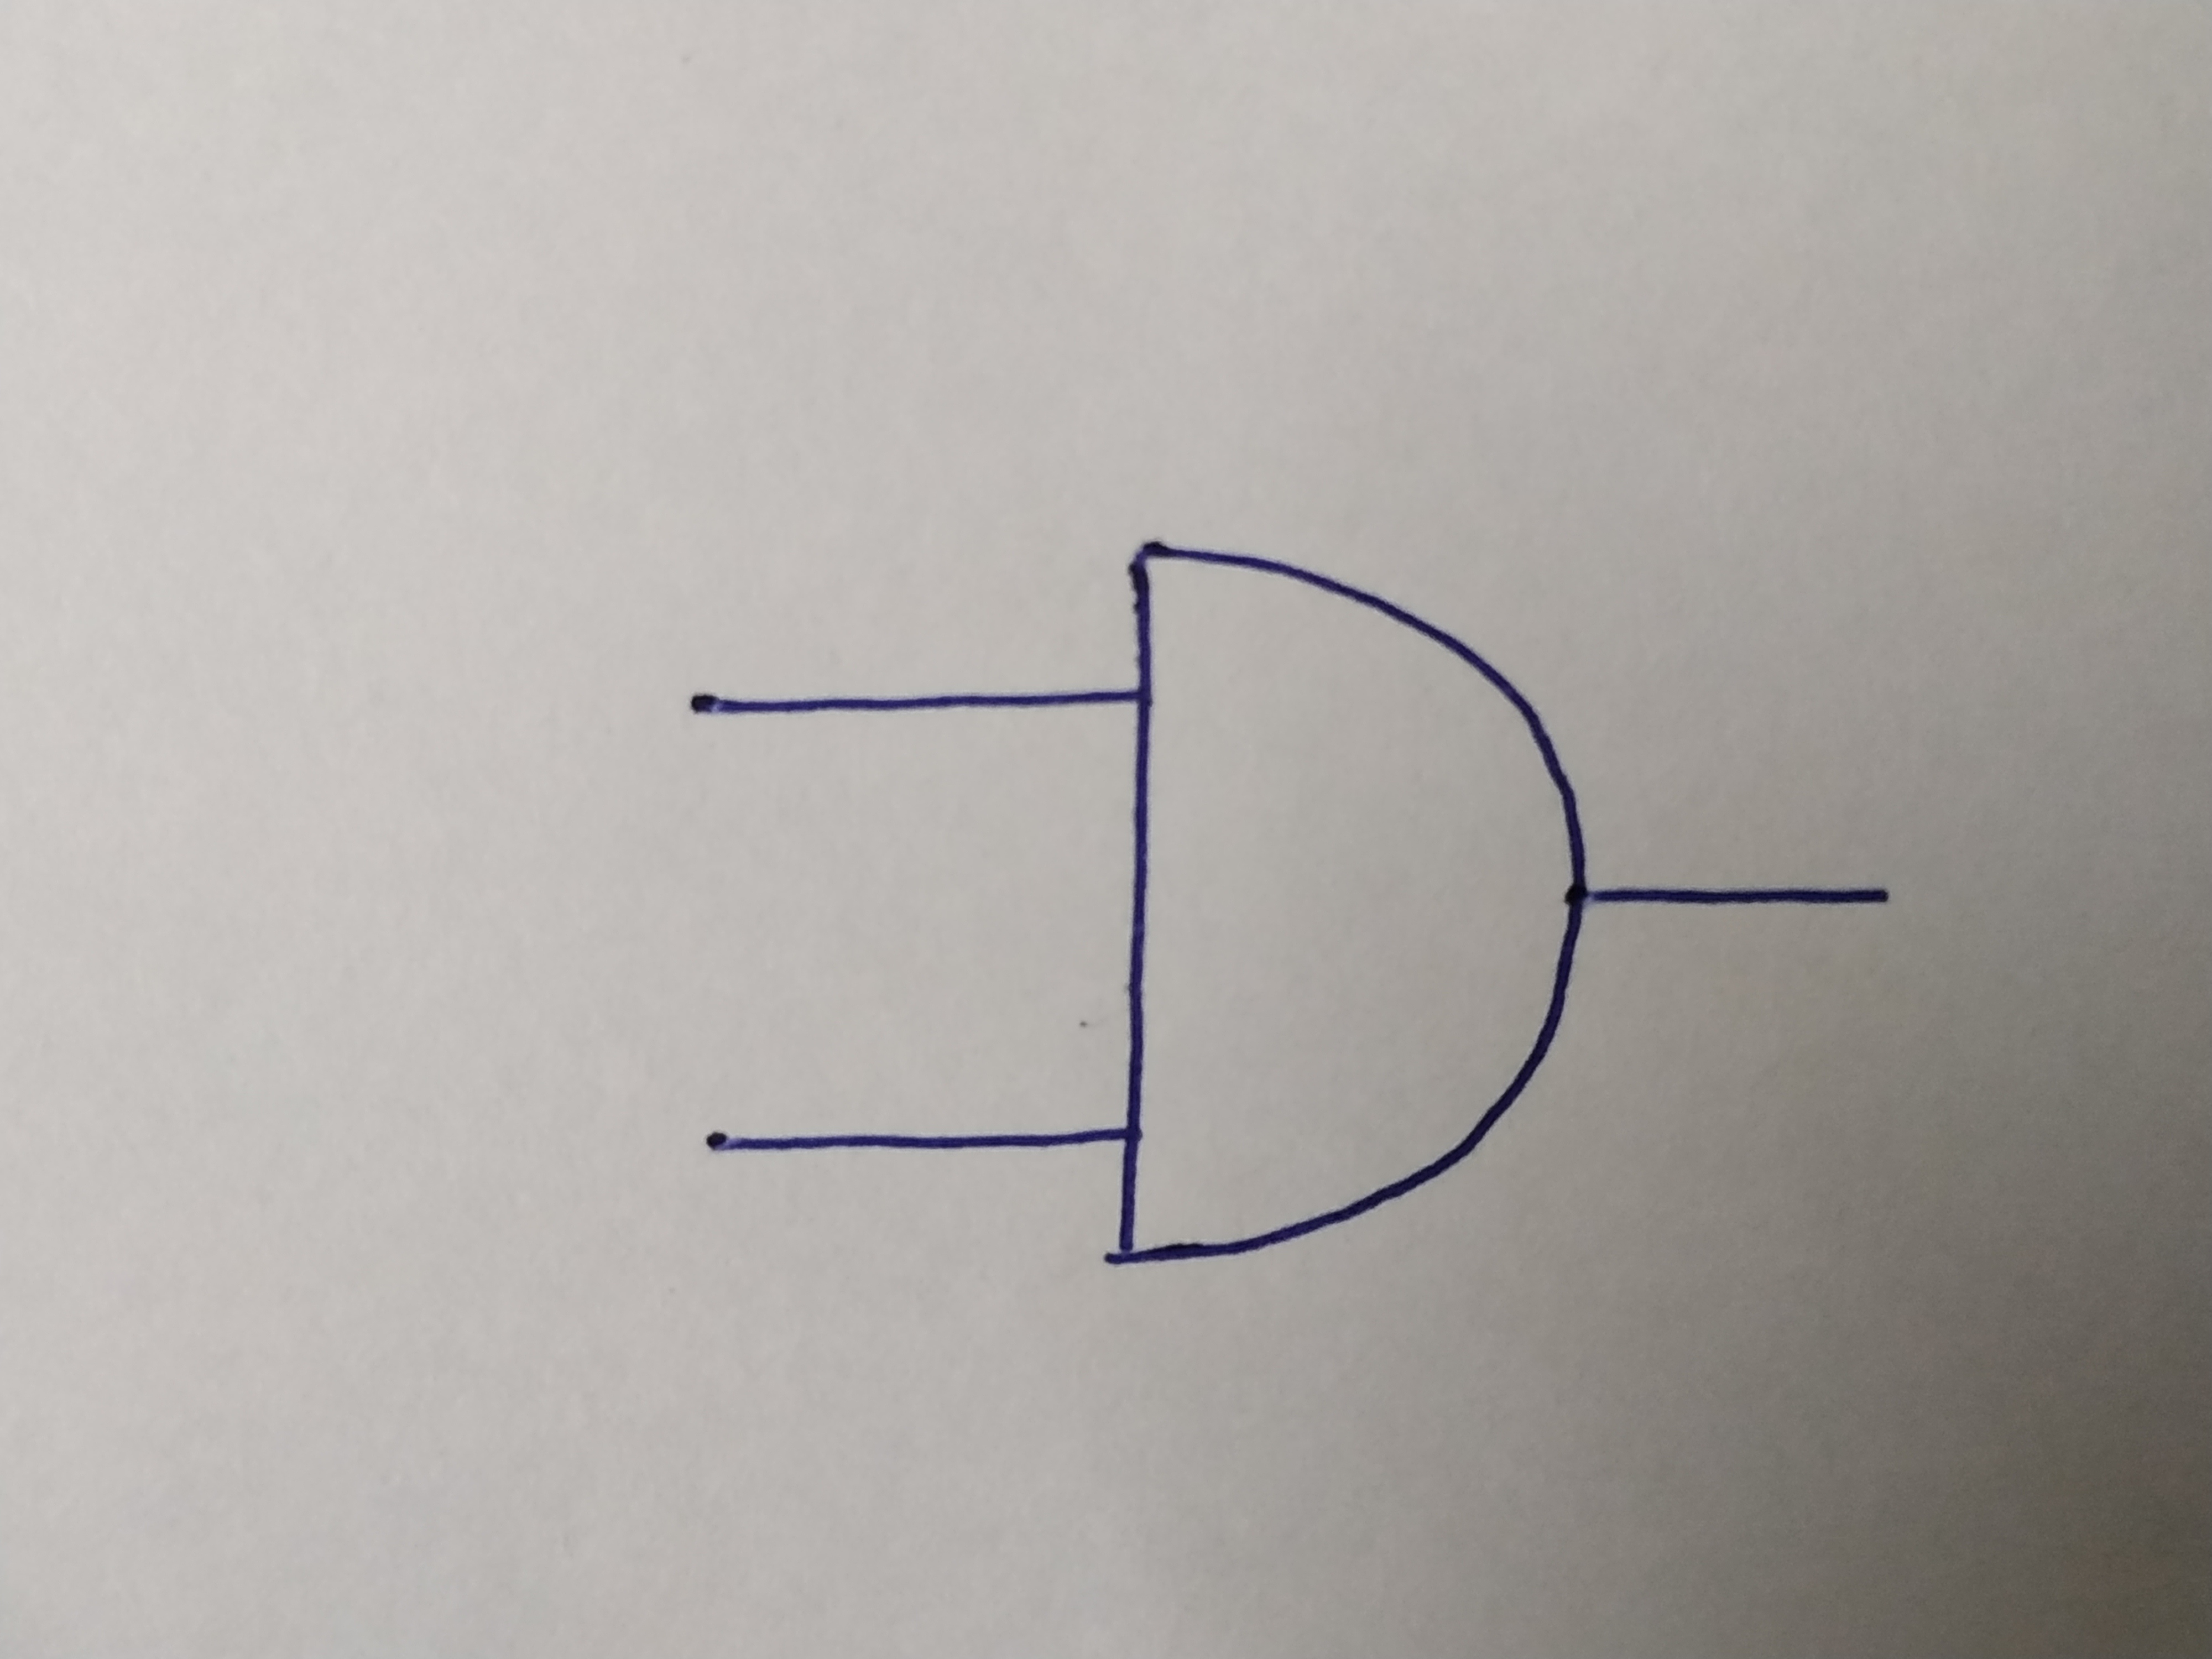and: (1127, 532, 1566, 1251)
